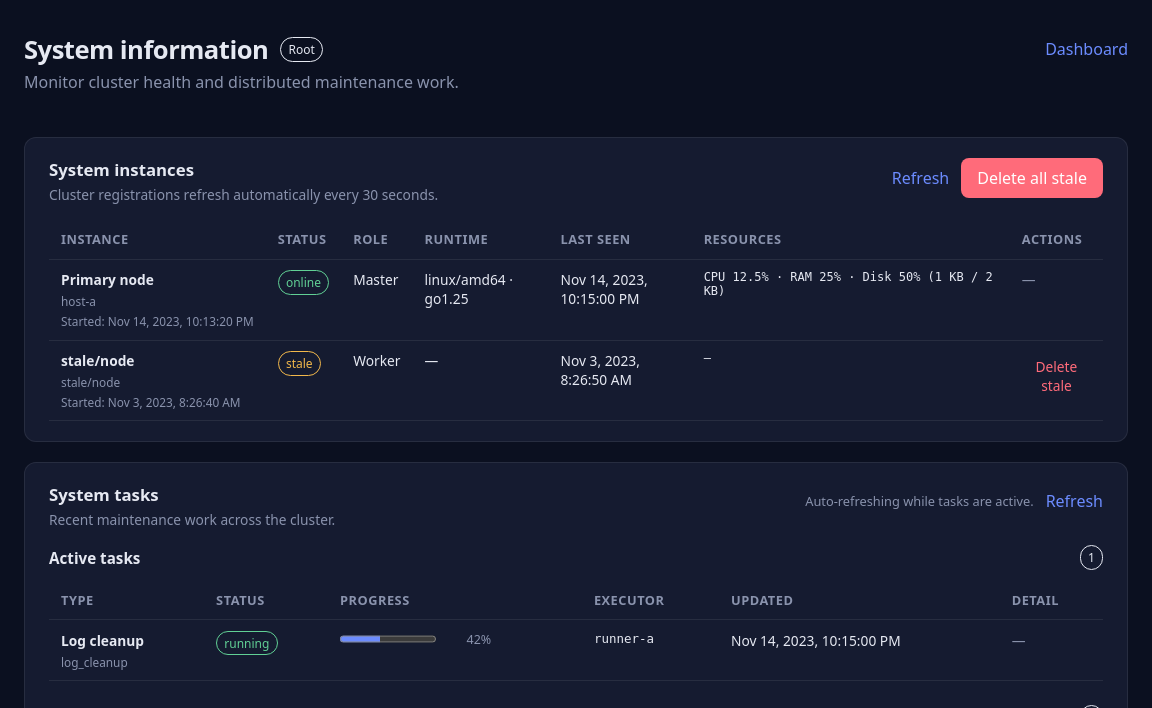
Test: SystemInfoView › confirms and serializes stale cleanup, then refreshes without exposing online deletion
expect the text "Primary node" is shown: met, box [61, 270, 154, 289]
Step 1. Click the button "Delete stale" → (1056,376), box [1022, 351, 1091, 402]
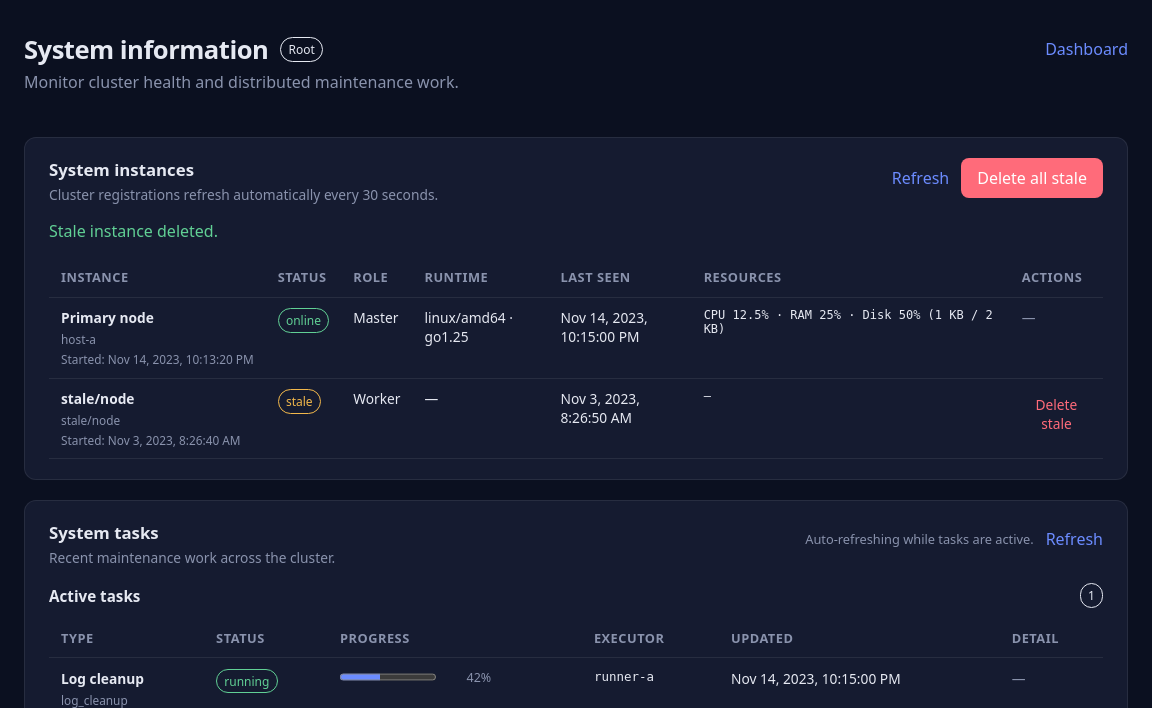
expect the message reads "Stale instance deleted.": met, box [49, 220, 218, 242]
Step 2. Click the button "Delete all stale" → (1032,178), box [961, 158, 1103, 198]
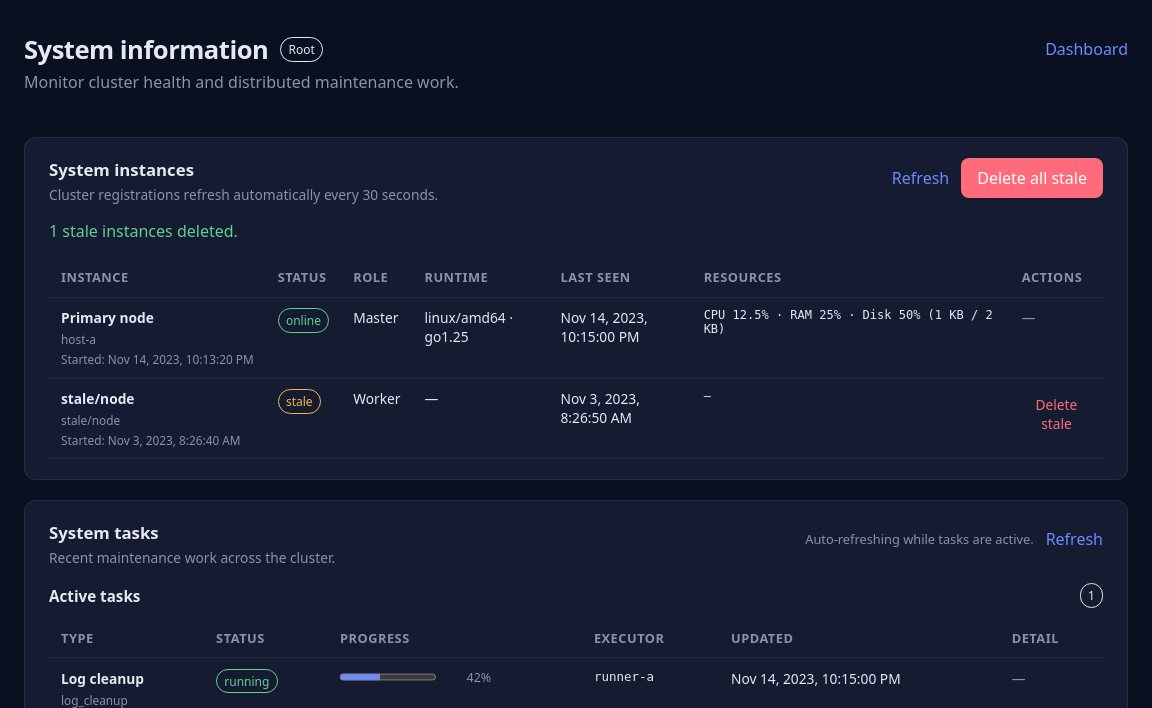
expect the message reads "1 stale instances deleted.": met, box [49, 220, 238, 242]
